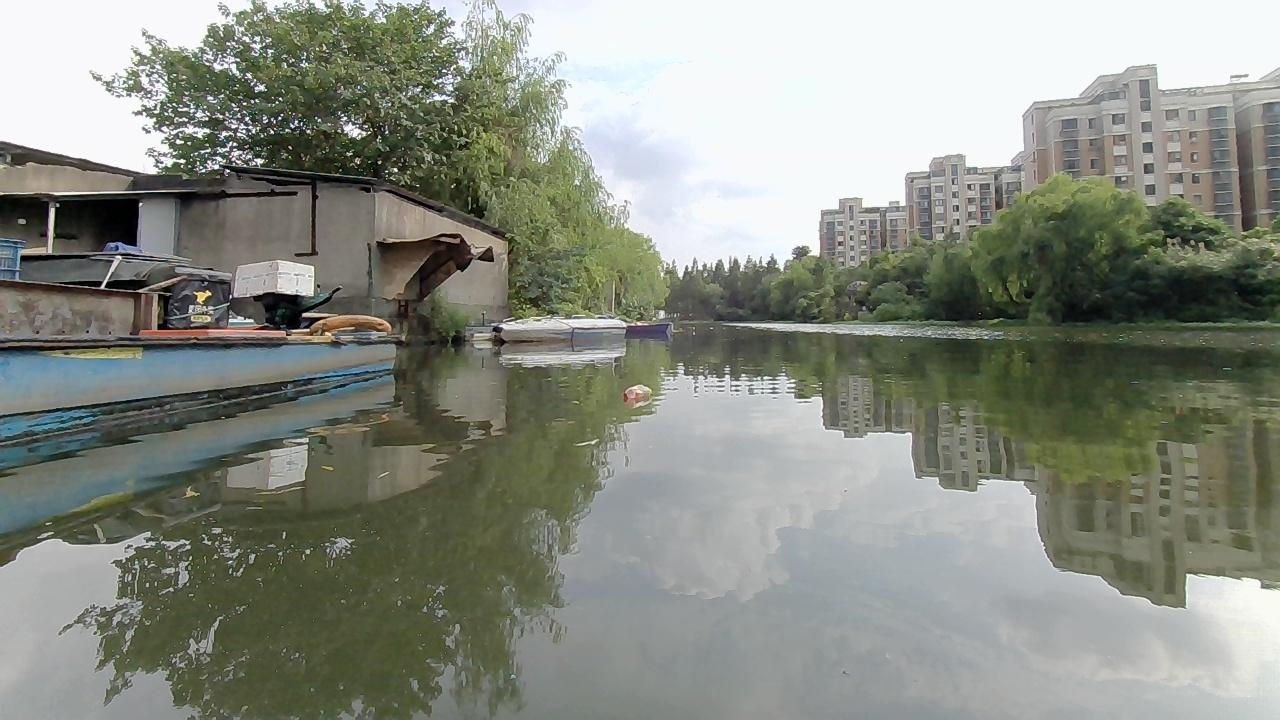bottle: (620, 382, 656, 407)
